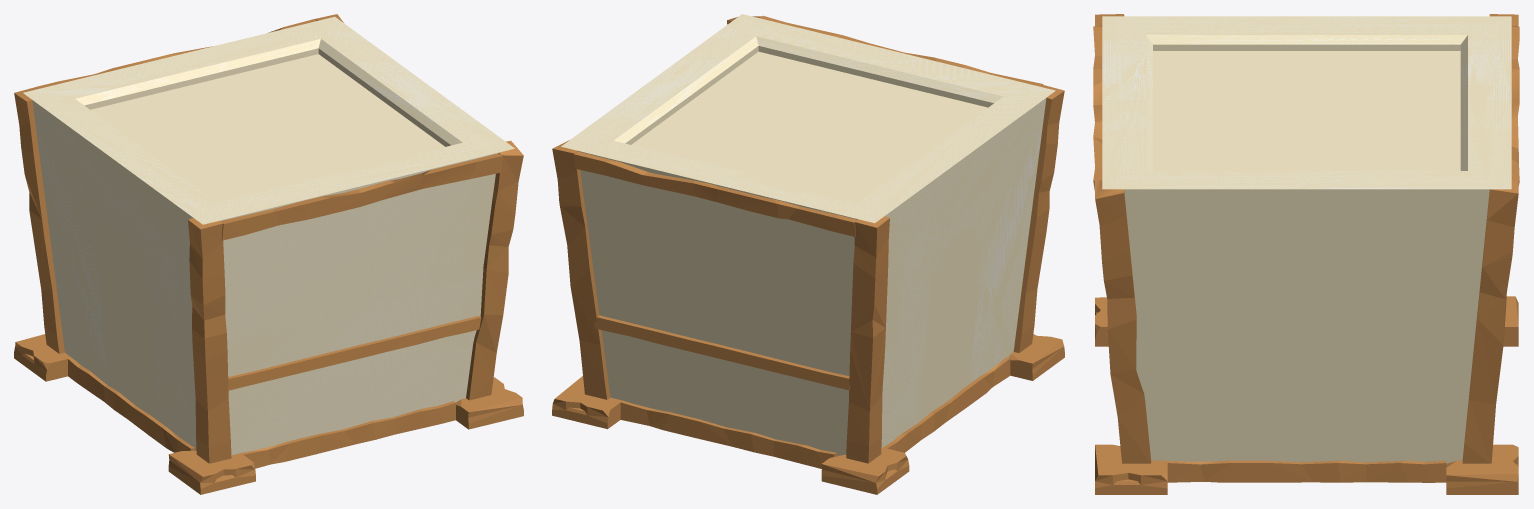
File: House4.fbx
3 views of the same model, side by side, from view 1: azimuth 30°, elevation 25°; view 2: azimuth 150°, elevation 25°; view 3: azimuth 270°, elevation 25° (orthographic). The views are drawn at different scales.
Parts seen in each view (by area): view 1: Hause2_1, G_60_1, G_63_1, Stolb1, G_61_1, G_52_3, G_88_1, G_77_1, G_52_4, G_77_2, G_77_3, Stolb2; view 2: Hause2_1, G_61_1, G_62_1, Stolb2, G_60_1, G_52_1, G_88_2, G_77_3, G_52_4, G_77_4, G_77_1, Stolb1; view 3: Hause2_1, G_63_1, G_62_1, G_52_2, G_77_2, G_77_4, Stolb1, Stolb2, G_77_3, G_77_1.
Part boxes in pixels (x1=…): Hause2_1: x1=23, y1=16, x2=514, y2=455; G_60_1: x1=188, y1=218, x2=231, y2=463; G_63_1: x1=466, y1=141, x2=523, y2=400; Stolb1: x1=220, y1=153, x2=502, y2=240; G_61_1: x1=14, y1=87, x2=64, y2=353; G_52_3: x1=241, y1=401, x2=455, y2=468; G_88_1: x1=227, y1=316, x2=481, y2=390; G_77_1: x1=168, y1=450, x2=255, y2=494; G_52_4: x1=68, y1=358, x2=194, y2=452; G_77_2: x1=456, y1=377, x2=523, y2=429; G_77_3: x1=14, y1=334, x2=71, y2=381; Stolb2: x1=36, y1=19, x2=317, y2=88; Hause2_1: x1=561, y1=14, x2=1055, y2=455; G_61_1: x1=846, y1=216, x2=889, y2=463; G_62_1: x1=552, y1=140, x2=610, y2=399; Stolb2: x1=574, y1=151, x2=856, y2=236; G_60_1: x1=1013, y1=84, x2=1064, y2=352; G_52_1: x1=620, y1=400, x2=836, y2=468; G_88_2: x1=594, y1=315, x2=849, y2=390; G_77_3: x1=821, y1=447, x2=909, y2=494; G_52_4: x1=883, y1=357, x2=1010, y2=452; G_77_4: x1=552, y1=376, x2=622, y2=429; G_77_1: x1=1008, y1=334, x2=1064, y2=380; Stolb1: x1=760, y1=16, x2=1043, y2=86; Hause2_1: x1=1102, y1=16, x2=1511, y2=463; G_63_1: x1=1095, y1=180, x2=1151, y2=463; G_62_1: x1=1462, y1=180, x2=1518, y2=463; G_52_2: x1=1167, y1=460, x2=1446, y2=482; G_77_2: x1=1095, y1=444, x2=1167, y2=494; G_77_4: x1=1446, y1=444, x2=1518, y2=494; Stolb1: x1=1093, y1=26, x2=1102, y2=190; Stolb2: x1=1511, y1=26, x2=1519, y2=185; G_77_3: x1=1503, y1=296, x2=1518, y2=346; G_77_1: x1=1095, y1=297, x2=1108, y2=346.
Bounding box in the file's own units: 2920 × 2300 × 2939.
